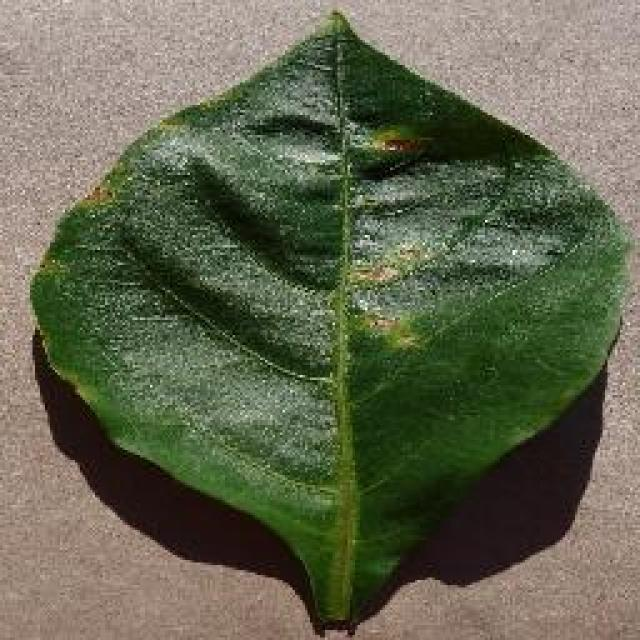Chilli_Bacterial_Spot: (25, 5, 635, 637), (248, 105, 442, 355), (338, 115, 438, 353), (340, 108, 442, 182), (345, 235, 437, 293), (358, 307, 420, 355), (362, 122, 430, 160), (75, 180, 115, 210), (372, 133, 422, 155)
